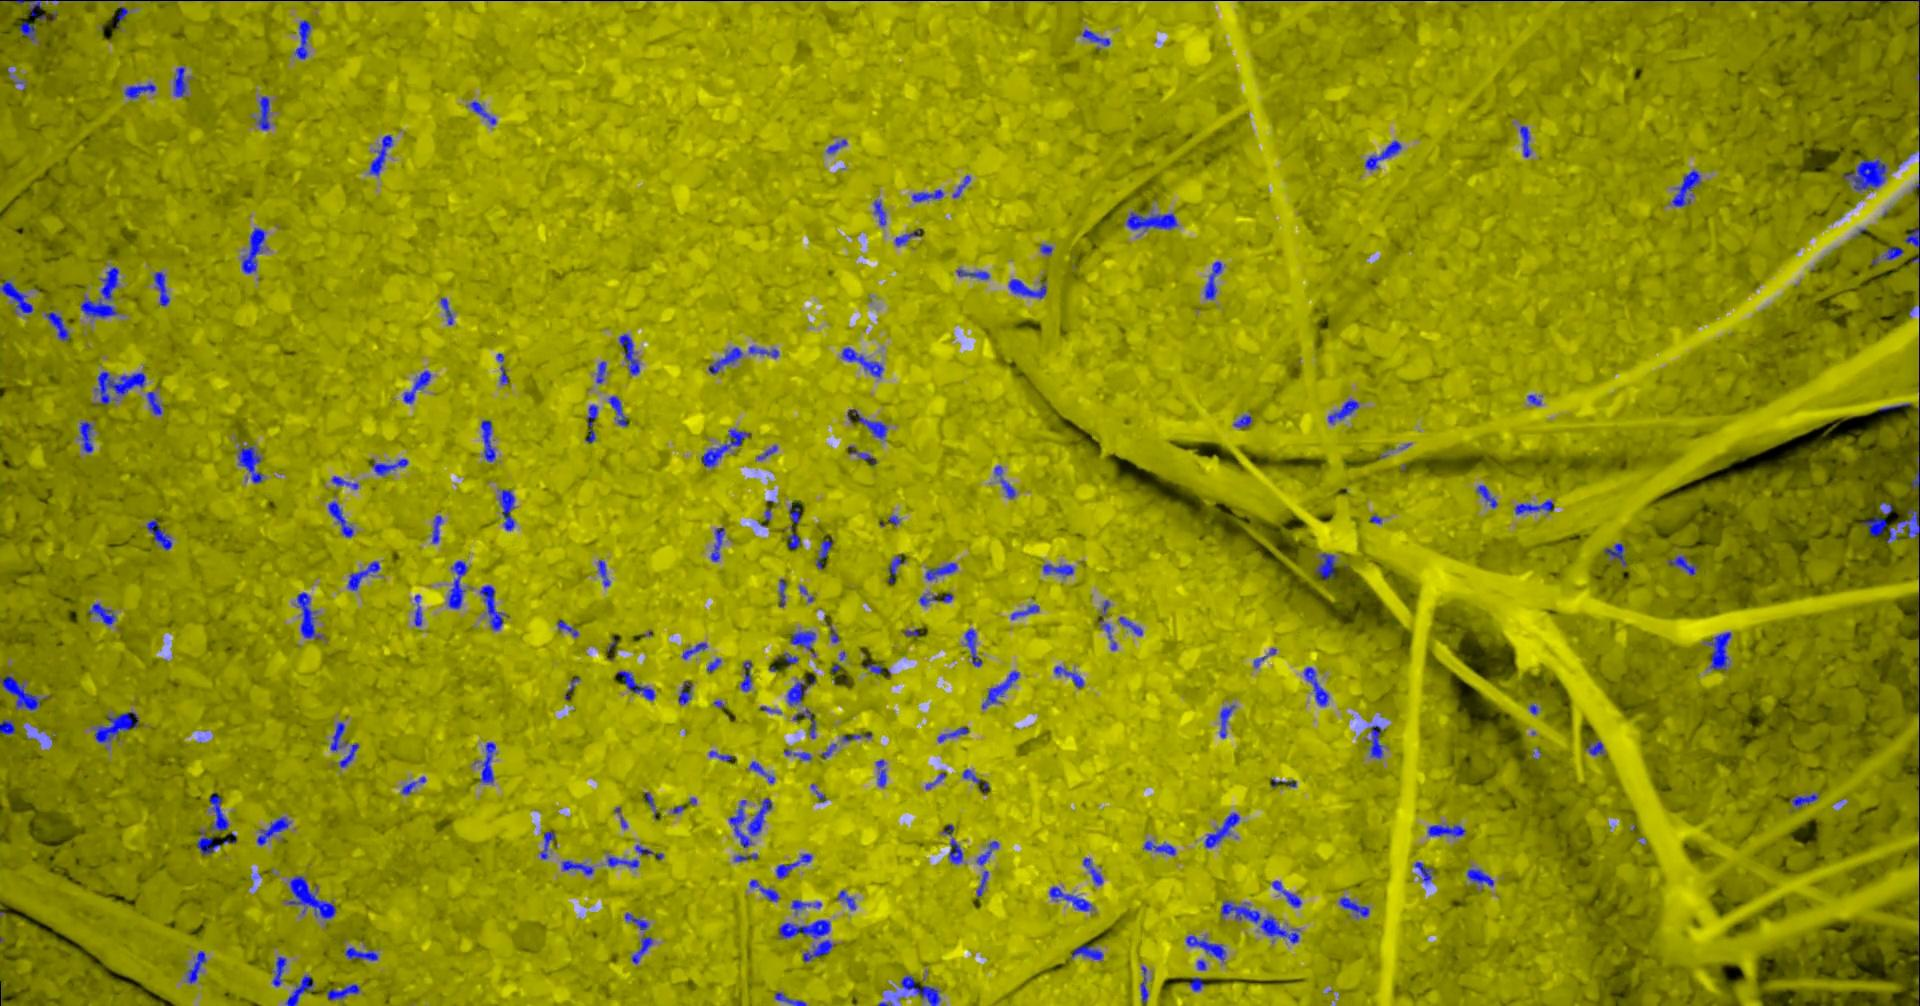ant: (1220, 901, 1299, 942), (728, 796, 771, 847), (287, 875, 335, 918), (80, 267, 118, 318), (700, 429, 749, 466), (93, 371, 145, 404), (0, 674, 44, 710), (1860, 500, 1896, 542), (982, 669, 1018, 708), (1843, 159, 1886, 191), (94, 711, 138, 742), (847, 408, 888, 439), (841, 347, 883, 377), (1204, 812, 1239, 847), (296, 592, 323, 638), (479, 586, 505, 630), (616, 669, 654, 700), (900, 976, 940, 1005), (1671, 169, 1702, 206), (241, 227, 265, 273), (1896, 500, 1919, 549), (1185, 935, 1225, 962), (1364, 140, 1401, 169), (0, 279, 32, 312), (1049, 887, 1092, 911), (1303, 666, 1328, 705), (447, 560, 467, 608), (257, 815, 290, 845), (370, 133, 392, 175), (328, 500, 353, 537), (709, 345, 742, 373), (403, 370, 430, 403), (1705, 631, 1730, 669), (1126, 211, 1177, 229), (778, 920, 829, 937), (775, 854, 811, 878), (347, 561, 378, 589), (237, 446, 262, 481), (284, 974, 312, 1005), (145, 518, 171, 550), (618, 333, 639, 373), (1271, 880, 1302, 907), (1008, 278, 1046, 298), (1327, 398, 1357, 423), (208, 793, 229, 831), (8, 0, 46, 19), (44, 311, 69, 340), (792, 708, 815, 738), (803, 939, 833, 962), (1204, 260, 1222, 298), (964, 627, 982, 666), (994, 465, 1015, 498), (498, 489, 514, 530), (479, 742, 495, 782), (1053, 666, 1083, 687), (963, 768, 989, 793), (480, 419, 495, 461), (749, 879, 778, 901), (185, 950, 204, 983), (1338, 895, 1369, 916), (469, 102, 495, 124), (371, 459, 408, 475), (924, 561, 956, 580), (88, 603, 116, 625), (295, 19, 310, 58), (1514, 499, 1553, 514), (847, 445, 876, 465), (1667, 555, 1697, 575), (631, 934, 651, 963), (152, 271, 169, 306), (608, 395, 627, 426), (749, 760, 775, 782), (196, 829, 218, 855), (1368, 724, 1384, 758), (786, 681, 809, 705), (977, 840, 998, 865), (1219, 704, 1236, 737), (1082, 857, 1102, 884), (1603, 542, 1625, 565), (1316, 553, 1335, 579), (789, 630, 815, 649), (1142, 840, 1175, 855), (1070, 944, 1103, 959), (326, 983, 359, 998), (888, 555, 905, 583), (1465, 868, 1493, 885), (1476, 484, 1497, 507), (561, 860, 593, 875), (710, 527, 724, 561), (918, 592, 952, 606), (124, 83, 155, 98), (815, 537, 830, 568), (937, 727, 968, 742), (538, 831, 555, 859), (1117, 616, 1142, 635), (339, 743, 358, 767), (894, 227, 919, 245), (682, 641, 707, 659), (1789, 793, 1818, 808), (257, 95, 269, 130), (585, 404, 597, 442), (1427, 824, 1465, 836), (401, 776, 425, 794), (1082, 29, 1110, 44), (344, 948, 377, 960), (1413, 861, 1432, 883), (1010, 605, 1039, 619), (330, 721, 344, 751), (272, 956, 286, 986), (1903, 220, 1919, 246), (79, 420, 91, 452), (606, 855, 637, 868), (775, 992, 806, 1005), (623, 912, 648, 929), (173, 66, 185, 97), (1043, 563, 1073, 575), (836, 889, 855, 909), (952, 175, 970, 197), (910, 189, 943, 201), (331, 475, 358, 489), (1519, 126, 1530, 158), (949, 837, 963, 862), (955, 269, 989, 279), (748, 345, 778, 357), (497, 353, 508, 384), (146, 391, 161, 414), (791, 899, 822, 911), (439, 297, 452, 324), (597, 559, 610, 586), (557, 619, 577, 636), (644, 793, 657, 819), (677, 680, 691, 704), (1911, 450, 1919, 493), (872, 199, 885, 225), (430, 514, 442, 542), (740, 661, 750, 691), (783, 748, 810, 760), (875, 760, 886, 786), (19, 22, 36, 39), (112, 6, 127, 25), (977, 870, 988, 895), (825, 138, 846, 152), (413, 594, 422, 626), (1882, 246, 1903, 259), (757, 445, 776, 459), (789, 500, 800, 523), (709, 749, 731, 761), (1233, 414, 1251, 428), (1586, 741, 1604, 754), (787, 526, 799, 547), (862, 663, 883, 674), (1140, 967, 1147, 1002), (842, 733, 871, 741), (778, 578, 786, 606), (706, 657, 720, 672), (0, 719, 14, 734), (1189, 977, 1204, 991), (596, 361, 604, 384), (783, 652, 797, 666), (733, 854, 757, 861), (1528, 394, 1540, 405)
